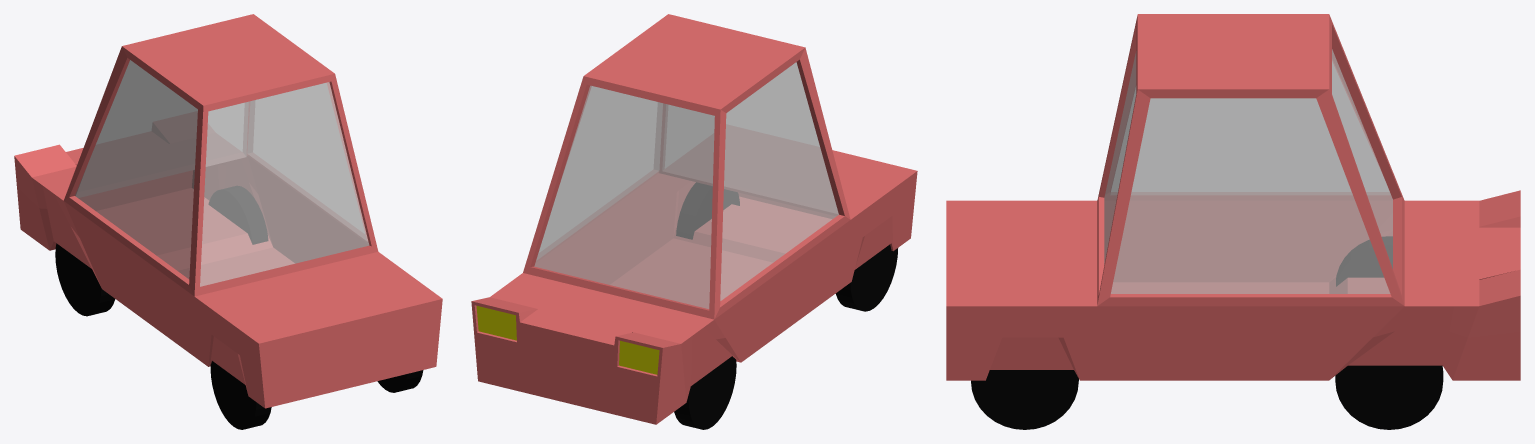
The model's file is Car.fbx.
3 views of the same model, side by side, from view 1: azimuth 30°, elevation 25°; view 2: azimuth 150°, elevation 25°; view 3: azimuth 270°, elevation 25° (orthographic). The views are drawn at different scales.
Visible parts, largest first — view 1: Cube, Cylinder, Cylinder.003, Cylinder.001, Cylinder.002; view 2: Cube, Cylinder, Cylinder.003, Cylinder.002; view 3: Cube, Cylinder.001, Cylinder.002, Cylinder.
Boxes of the visible parts, x1=… form: Cube: x1=14, y1=14, x2=442, y2=408; Cylinder: x1=55, y1=243, x2=115, y2=316; Cylinder.003: x1=210, y1=361, x2=271, y2=429; Cylinder.001: x1=208, y1=186, x2=268, y2=244; Cylinder.002: x1=377, y1=370, x2=423, y2=392; Cube: x1=471, y1=14, x2=917, y2=424; Cylinder: x1=674, y1=356, x2=736, y2=429; Cylinder.003: x1=835, y1=244, x2=897, y2=311; Cylinder.002: x1=676, y1=182, x2=739, y2=239; Cube: x1=946, y1=14, x2=1520, y2=380; Cylinder.001: x1=1335, y1=365, x2=1443, y2=429; Cylinder.002: x1=971, y1=370, x2=1078, y2=429; Cylinder: x1=1336, y1=236, x2=1392, y2=286.
Size of the model in its own units: 200 by 292 by 461.
